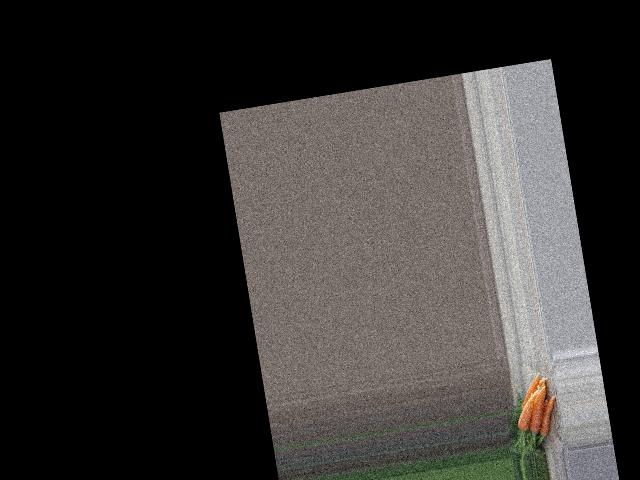carrot: (535, 393, 558, 441)
